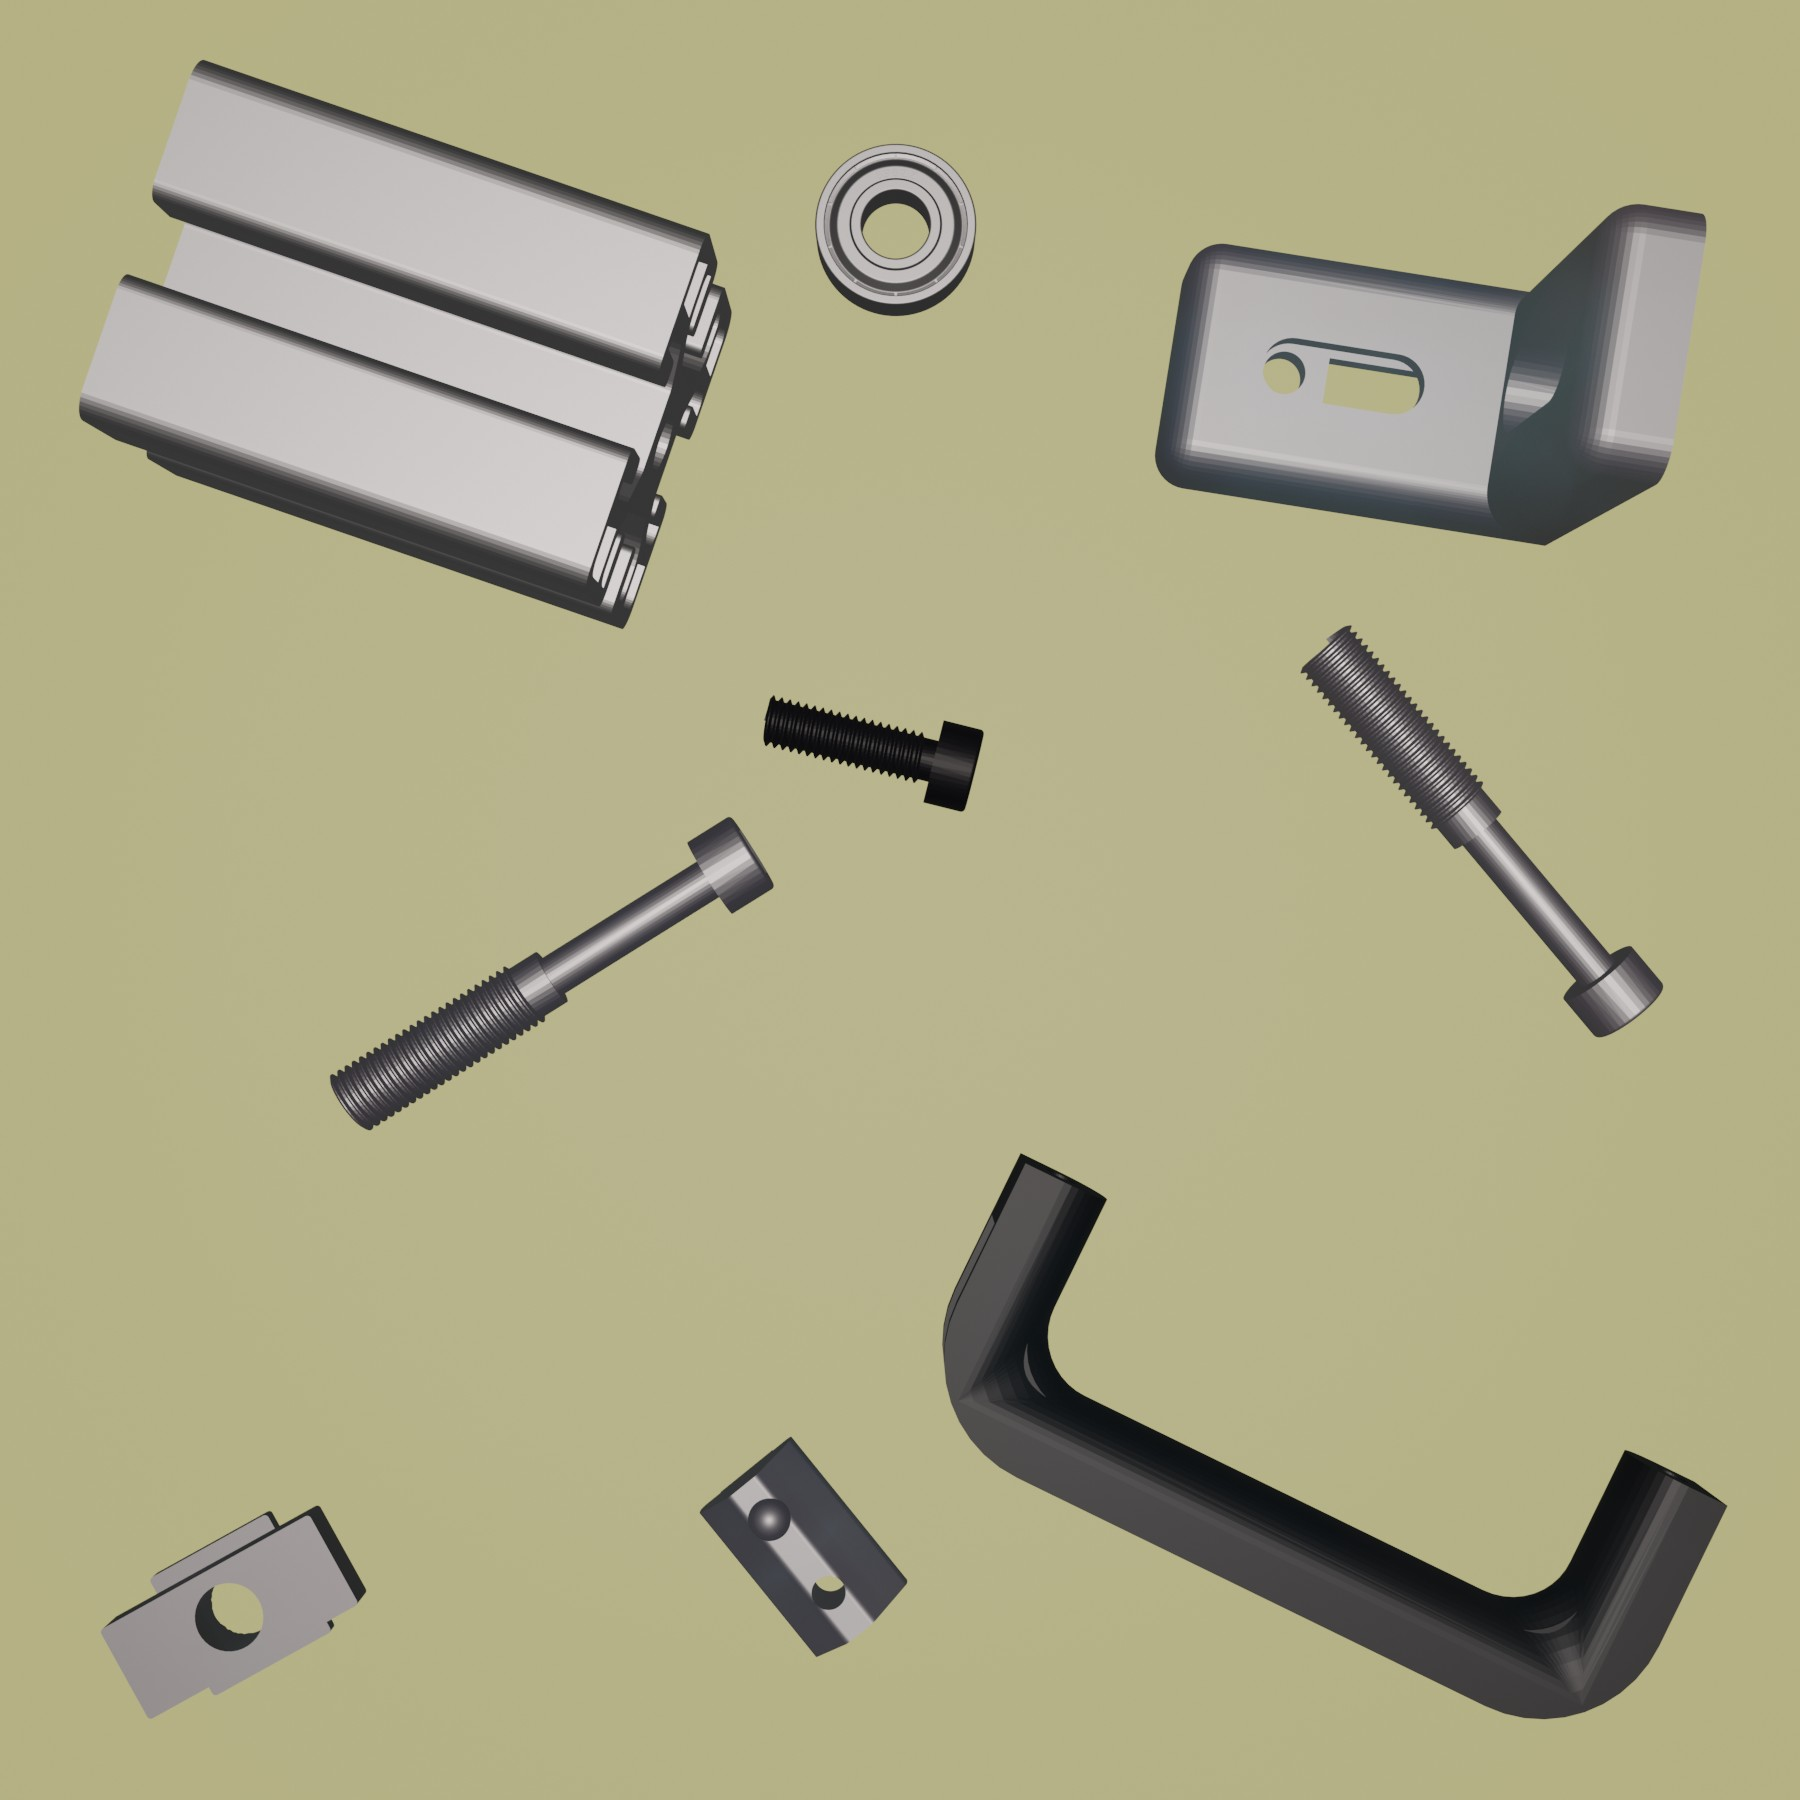Aluminium Extension: (76, 58, 735, 630)
Ball Bearing: (811, 138, 977, 320)
Multiwinkel: (1151, 203, 1709, 551)
Pull Handle: (940, 1154, 1731, 1723)
Shoulder Socket Head Cap Screw: (1297, 621, 1665, 1042), (326, 813, 776, 1131)
Socket Head Cap Screw: (758, 692, 986, 814)
T Nut Square: (97, 1498, 369, 1724)
T Spring Nut: (696, 1432, 908, 1658)
